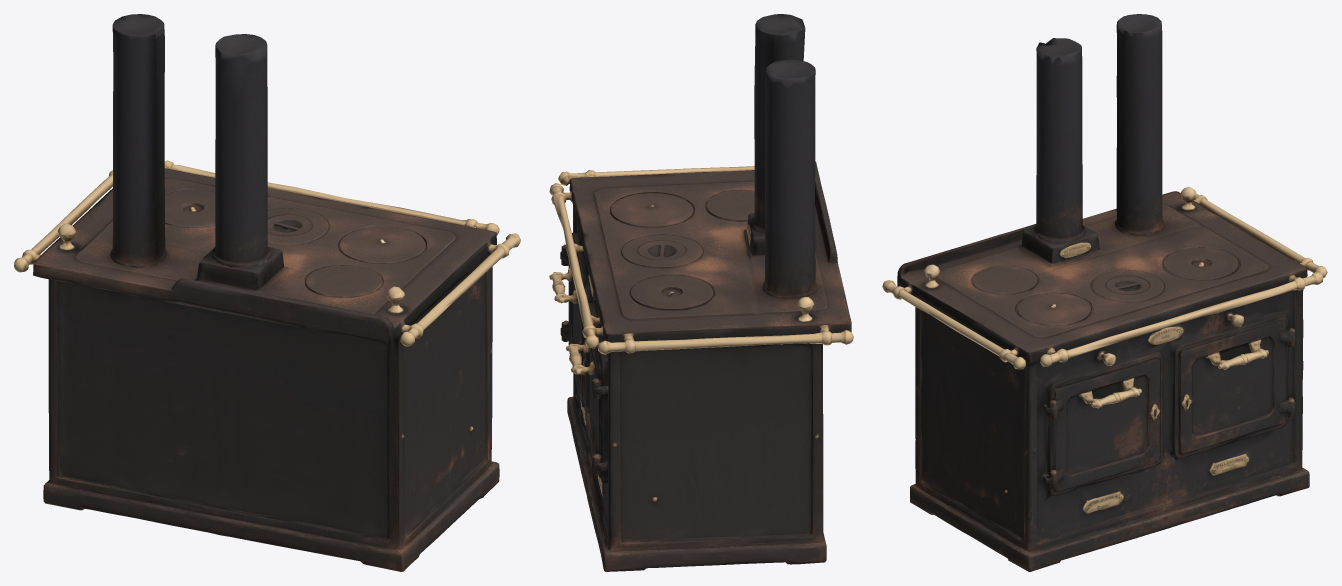
Rendered from k_range.glb.
3 views of the same model, side by side, from view 1: azimuth 30°, elevation 25°; view 2: azimuth 150°, elevation 25°; view 3: azimuth 270°, elevation 25° (orthographic). The views are drawn at different scales.
Visible parts, largest first — view 1: tripo_node_ea9d1ac1-7044-4c4a-9e27-2969b4f84598; view 2: tripo_node_ea9d1ac1-7044-4c4a-9e27-2969b4f84598; view 3: tripo_node_ea9d1ac1-7044-4c4a-9e27-2969b4f84598.
Boxes of the visible parts, bbox=[...] form: tripo_node_ea9d1ac1-7044-4c4a-9e27-2969b4f84598: bbox=[14, 14, 520, 571]; tripo_node_ea9d1ac1-7044-4c4a-9e27-2969b4f84598: bbox=[549, 14, 853, 571]; tripo_node_ea9d1ac1-7044-4c4a-9e27-2969b4f84598: bbox=[882, 14, 1327, 571].
Bounding box in the file's own units: 0.8642 × 0.9822 × 0.9352.
Materials: 1 (1 with a texture image).
